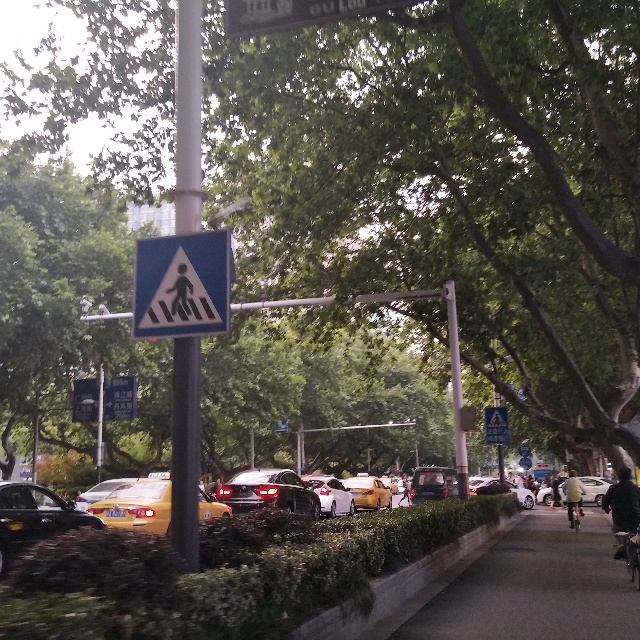crosswalk: (142, 242, 228, 336)
